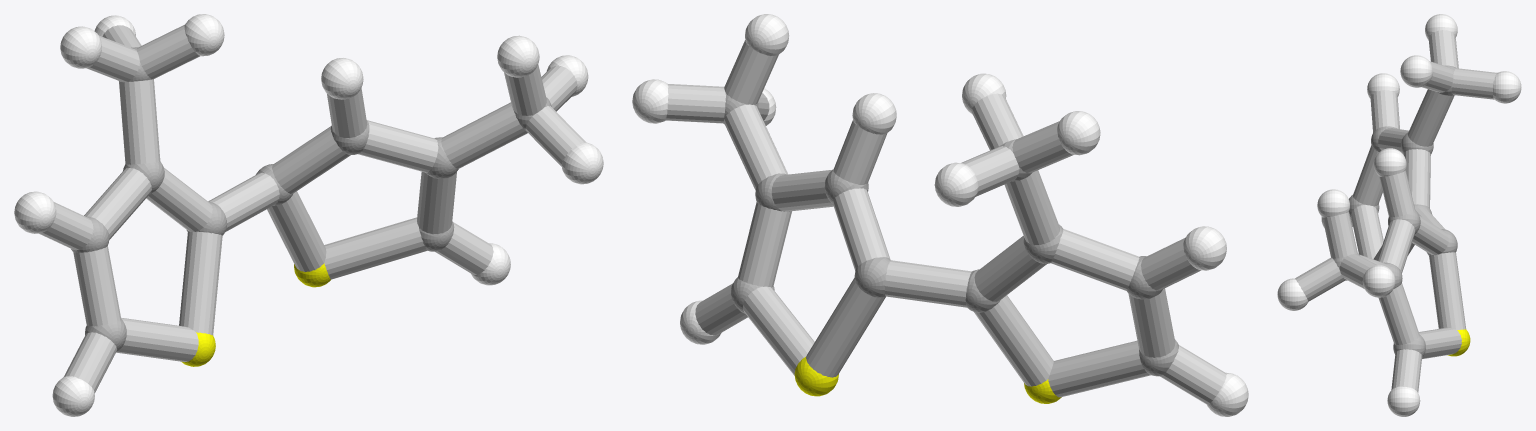
Rendered from Methylthiophene_Phi_40_Theta_220_Methylthiophene.glb.
The picture shows the model from 3 angles, left to right: view 1: azimuth 30°, elevation 25°; view 2: azimuth 150°, elevation 25°; view 3: azimuth 270°, elevation 25°; orthographic projection. The views are drawn at different scales.
Visible parts, largest first — view 1: grp7965, grp3621, grp1, grp7241; view 2: grp7965, grp3621, grp1, grp7241; view 3: grp7965, grp3621, grp1, grp7241.
Boxes of the visible parts, bbox=[...] form: grp7965: bbox=[39, 24, 586, 392]; grp3621: bbox=[14, 14, 603, 416]; grp1: bbox=[71, 47, 551, 351]; grp7241: bbox=[181, 263, 330, 366]; grp7965: bbox=[665, 40, 1226, 404]; grp3621: bbox=[632, 14, 1248, 416]; grp1: bbox=[723, 93, 1178, 376]; grp7241: bbox=[794, 357, 1061, 403]; grp7965: bbox=[1295, 30, 1497, 392]; grp3621: bbox=[1277, 14, 1521, 416]; grp1: bbox=[1333, 65, 1457, 357]; grp7241: bbox=[1447, 329, 1470, 356].
Bounding box in the file's own units: 9.23 × 5.16 × 4.47.
